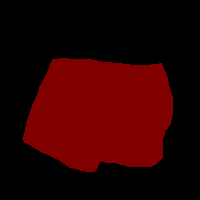mutande: (22, 58, 173, 172)
